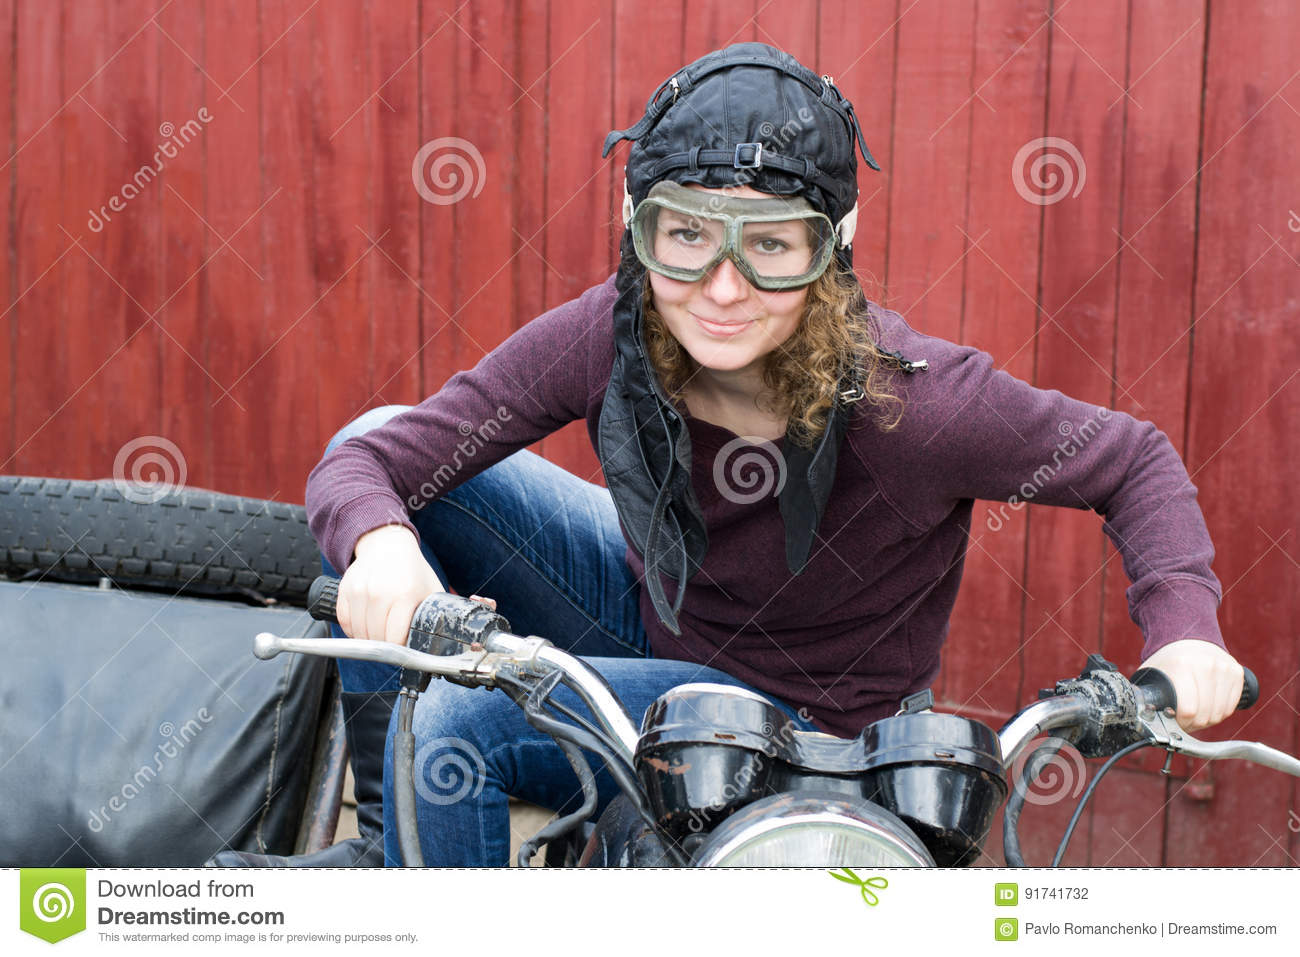helmet: (608, 48, 857, 280)
